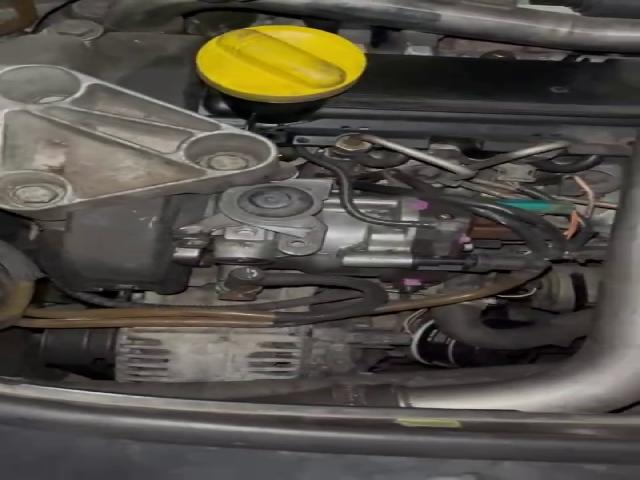alternator: (113, 317, 418, 384)
high_pressure_pump: (211, 196, 481, 290)
